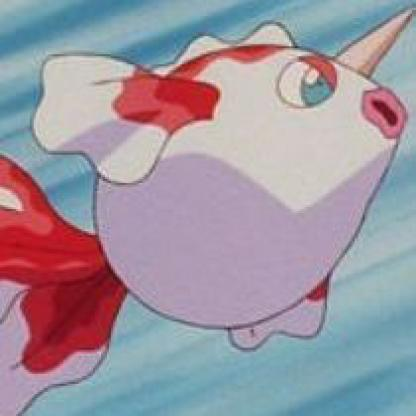Goldeen: (1, 19, 416, 387)
